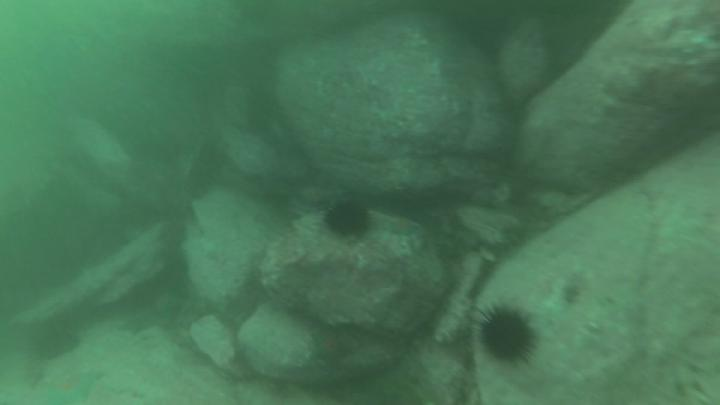echinus: (479, 304, 538, 365), (325, 198, 373, 243), (32, 323, 78, 360)
starfish: (385, 216, 424, 240)
